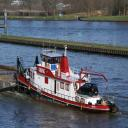tugboat: (15, 45, 121, 117)
